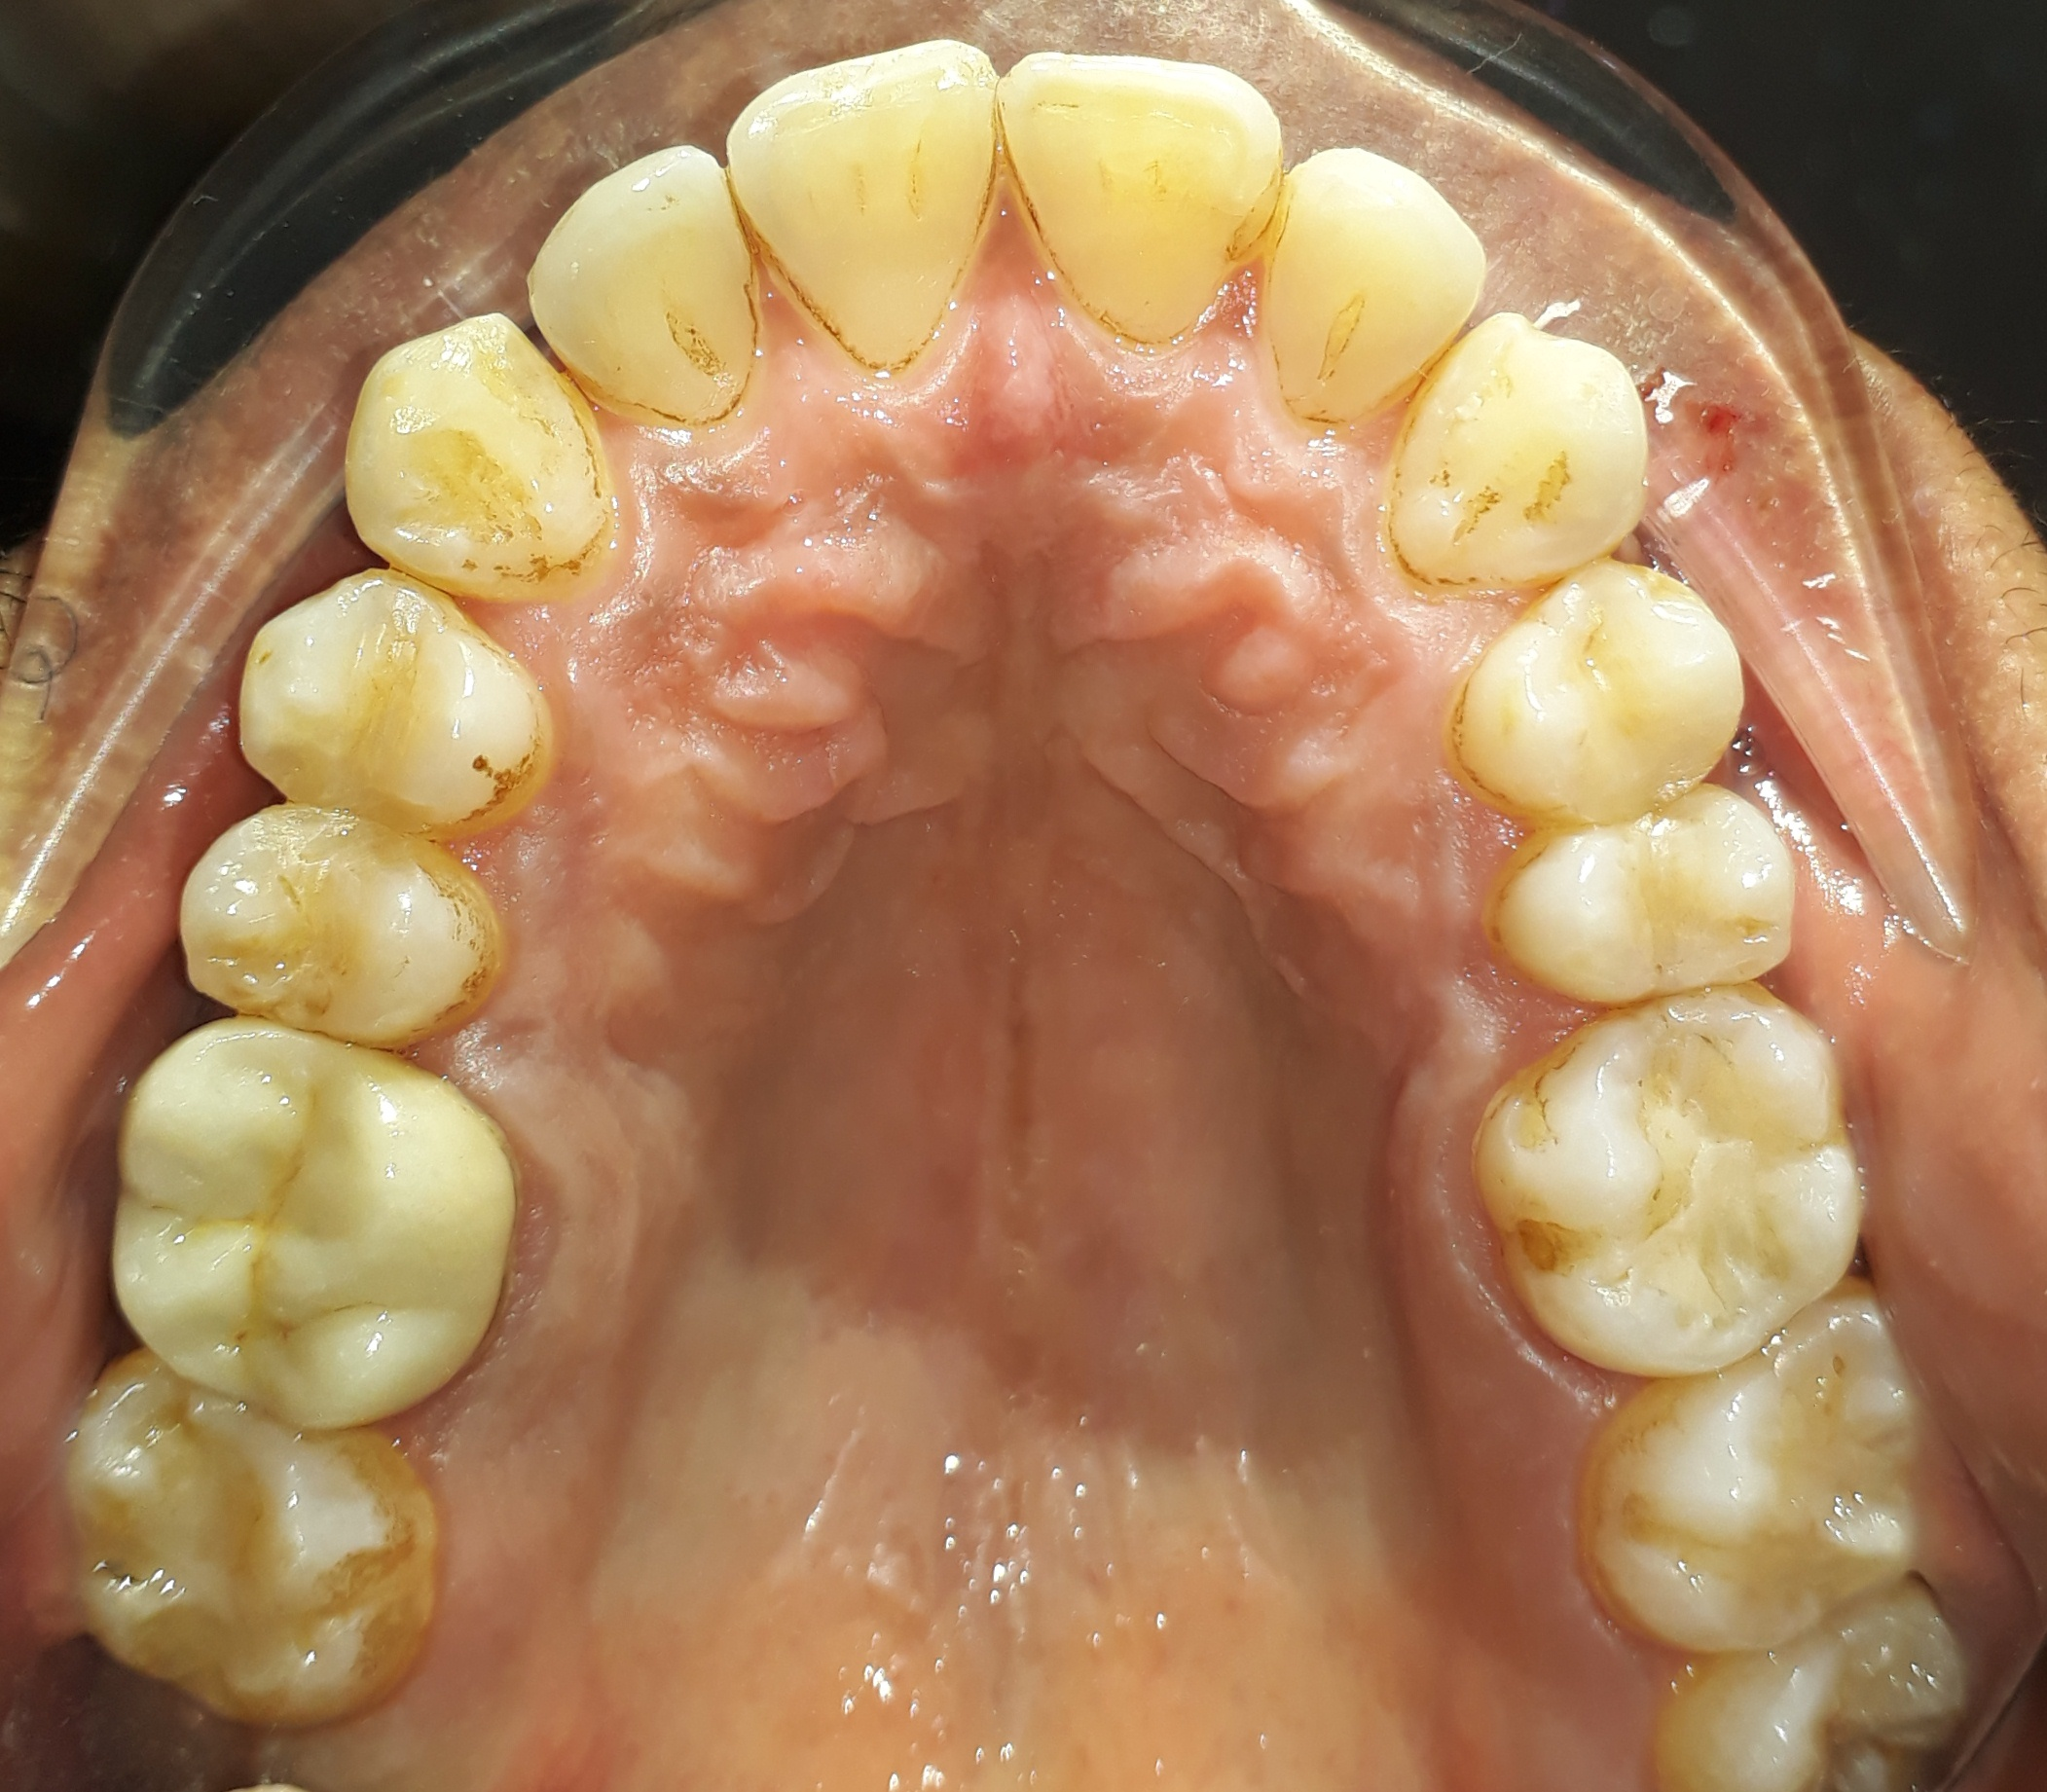1st Molar: (104, 1034, 515, 1430), (1478, 998, 1873, 1378)
1st Premolar: (226, 568, 557, 822), (1453, 556, 1741, 820)
2nd Molar: (42, 1364, 449, 1721), (1589, 1285, 1929, 1646)
2nd Premolar: (171, 806, 505, 1038), (1495, 792, 1802, 996)
3rd Molar: (1648, 1573, 1981, 1792)
Canine: (341, 305, 625, 589), (1386, 313, 1650, 592)
Central Incisor: (724, 38, 999, 364), (999, 42, 1274, 352)
Lateral Incisor: (520, 143, 761, 421), (1265, 138, 1490, 413)
